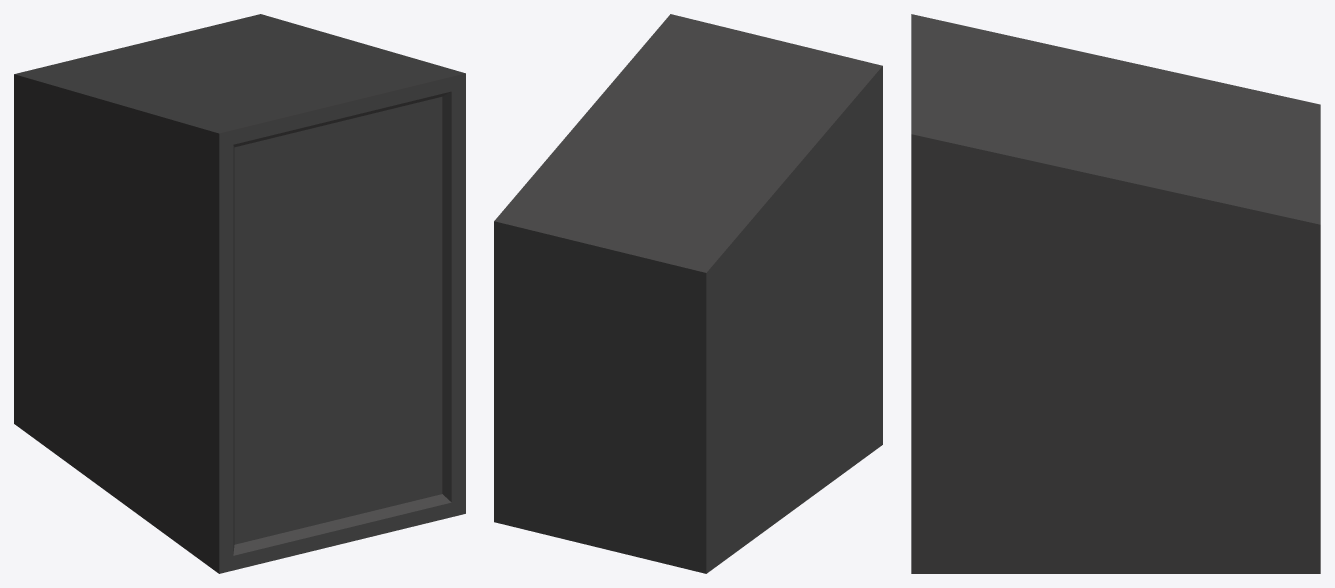
Rendered from Speaker.fbx.
3 views of the same model, side by side, from view 1: azimuth 30°, elevation 25°; view 2: azimuth 150°, elevation 25°; view 3: azimuth 270°, elevation 25° (orthographic). The views are drawn at different scales.
Parts seen in each view (by area): view 1: pCube858; view 2: pCube858; view 3: pCube858.
Boxes of the visible parts, bbox=[...] form: pCube858: bbox=[14, 14, 465, 573]; pCube858: bbox=[494, 14, 882, 573]; pCube858: bbox=[911, 14, 1320, 573].
Size of the model in its own units: 0.2331 by 0.3978 by 0.3357.
Materials: 1 (1 with a texture image).
